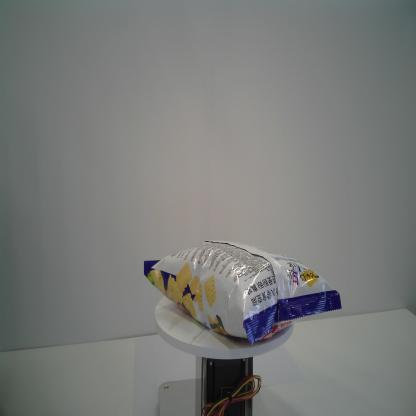Puffed Food: (142, 239, 343, 351)
